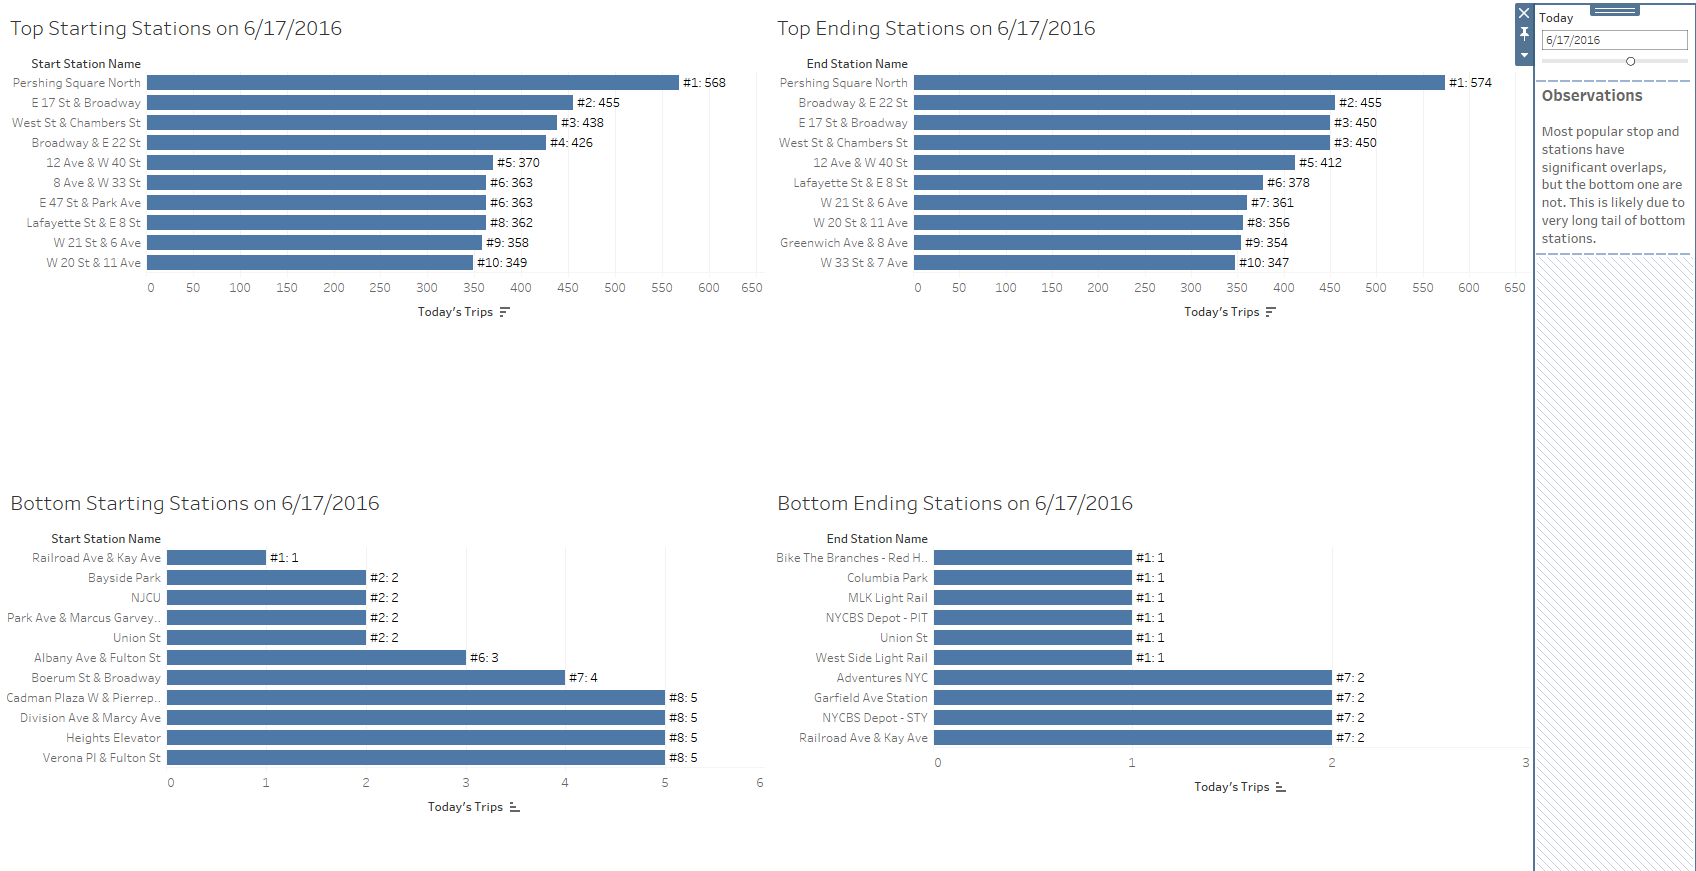

The dashboard page shown, as its layout file describes it:
{"tool":"tableau","page":{"name":"Top/Bottom Stations","canvas":[1000,1000],"units":"permille","ordinal":5},"visuals":[{"type":"worksheet","title":"Top Starting Stations","mark":"Bar","rows":["start_station_name"],"cols":["Calculation_2809120283212001293"],"box":[4.7,8.3,448.5,491.7]},{"type":"worksheet","title":"Top Ending Stations","mark":"Bar","rows":["end_station_name"],"cols":["Calculation_2809120283212001293"],"box":[453.2,8.3,448.5,491.7]},{"type":"parameter","param":"[Parameters].[Parameter 1]","box":[901.7,8.3,93.6,77.6]},{"type":"text","box":[901.7,85.9,93.6,179.1]},{"type":"worksheet","title":"Bottom Starting Stations","mark":"Bar","rows":["start_station_name"],"cols":["Calculation_2809120283212001293"],"box":[4.7,500,448.5,491.7]},{"type":"worksheet","title":"Bottom Ending Stations","mark":"Bar","rows":["end_station_name"],"cols":["Calculation_2809120283212001293"],"box":[453.2,500,448.5,491.7]}]}

Visuals, with their boxes on the dashboard's canvas, which has no fixed pixel size, in thousandths of its width and height (x1, y1, x2, y2). These are canvas units, not pixel positions in the 1696x871 screenshot, which may show the page scaled, cropped or inside an application window:
"Top Starting Stations" worksheet (Bar marks): l=5, t=8, r=453, b=500
"Top Ending Stations" worksheet (Bar marks): l=453, t=8, r=902, b=500
parameter: l=902, t=8, r=995, b=86
text: l=902, t=86, r=995, b=265
"Bottom Starting Stations" worksheet (Bar marks): l=5, t=500, r=453, b=992
"Bottom Ending Stations" worksheet (Bar marks): l=453, t=500, r=902, b=992
